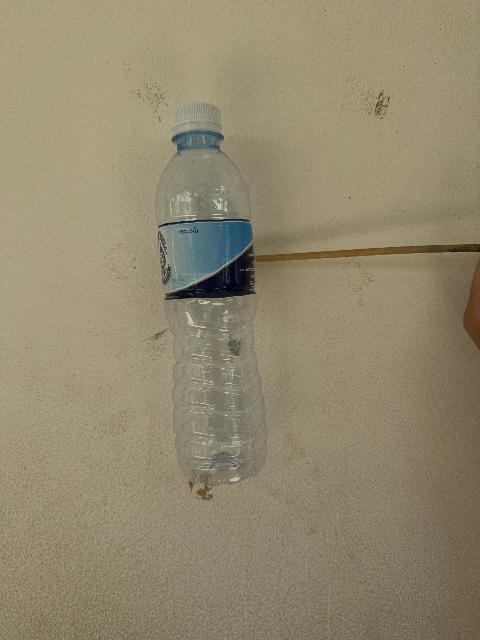bottle: (155, 103, 265, 484)
